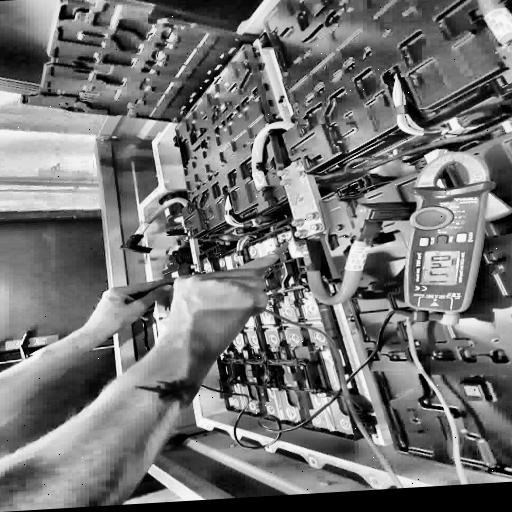high_volt_cable: (291, 196, 418, 311), (239, 115, 296, 206), (111, 195, 192, 256)
low_volt_cable: (317, 106, 512, 184), (200, 215, 291, 245)
nut: (306, 210, 320, 221), (310, 222, 324, 231), (291, 218, 305, 227), (294, 228, 308, 237), (292, 169, 306, 178), (275, 168, 288, 177), (290, 159, 302, 168), (280, 177, 292, 186), (190, 262, 198, 269), (184, 235, 192, 240), (182, 228, 190, 233)
